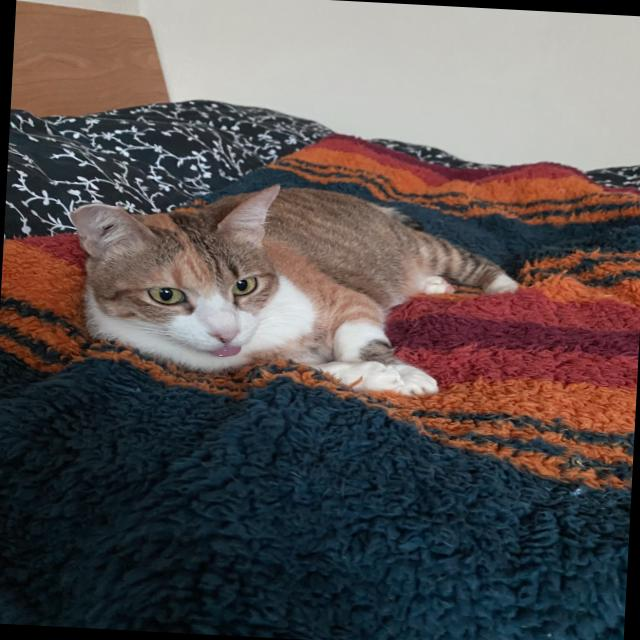cat2: (59, 169, 532, 402)
